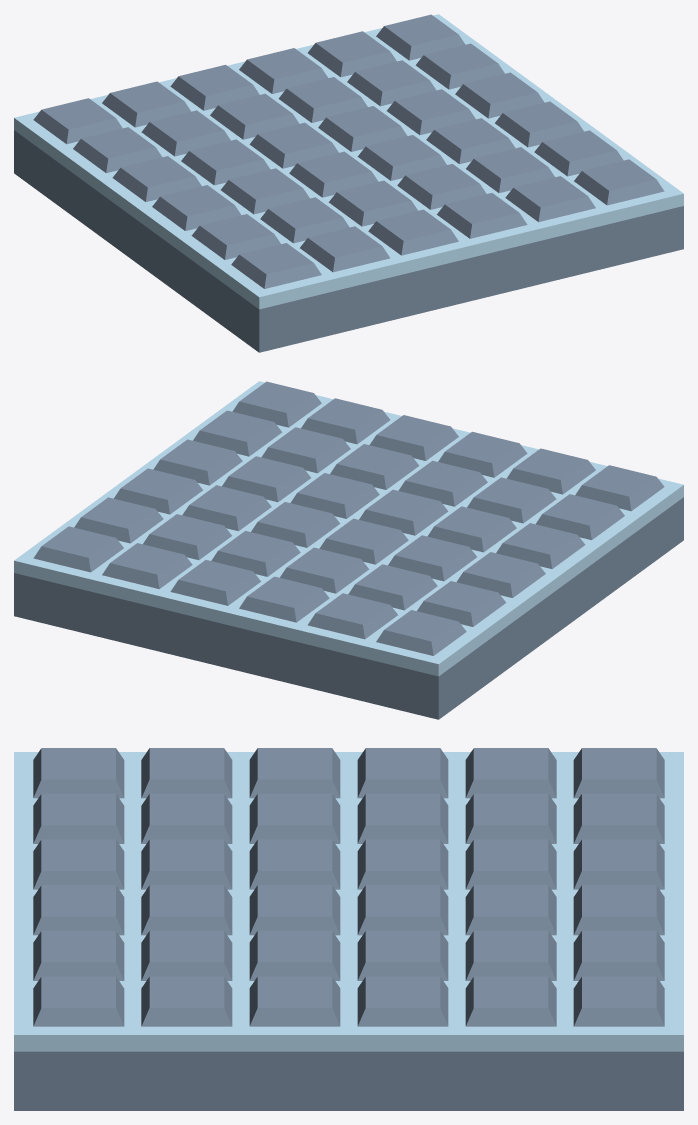
The model's file is Floor_Tiles.fbx.
3 views of the same model, one above another, from view 1: azimuth 30°, elevation 25°; view 2: azimuth 150°, elevation 25°; view 3: azimuth 270°, elevation 25° (orthographic). The views are drawn at different scales.
Visible parts, largest first — view 1: Floor_Tiles; view 2: Floor_Tiles; view 3: Floor_Tiles.
Boxes of the visible parts, x1,y1,x2,y2 form: Floor_Tiles: (14, 14, 683, 352); Floor_Tiles: (14, 381, 683, 719); Floor_Tiles: (14, 748, 683, 1110).
Size of the model in its own units: 400 by 60.09 by 400.
